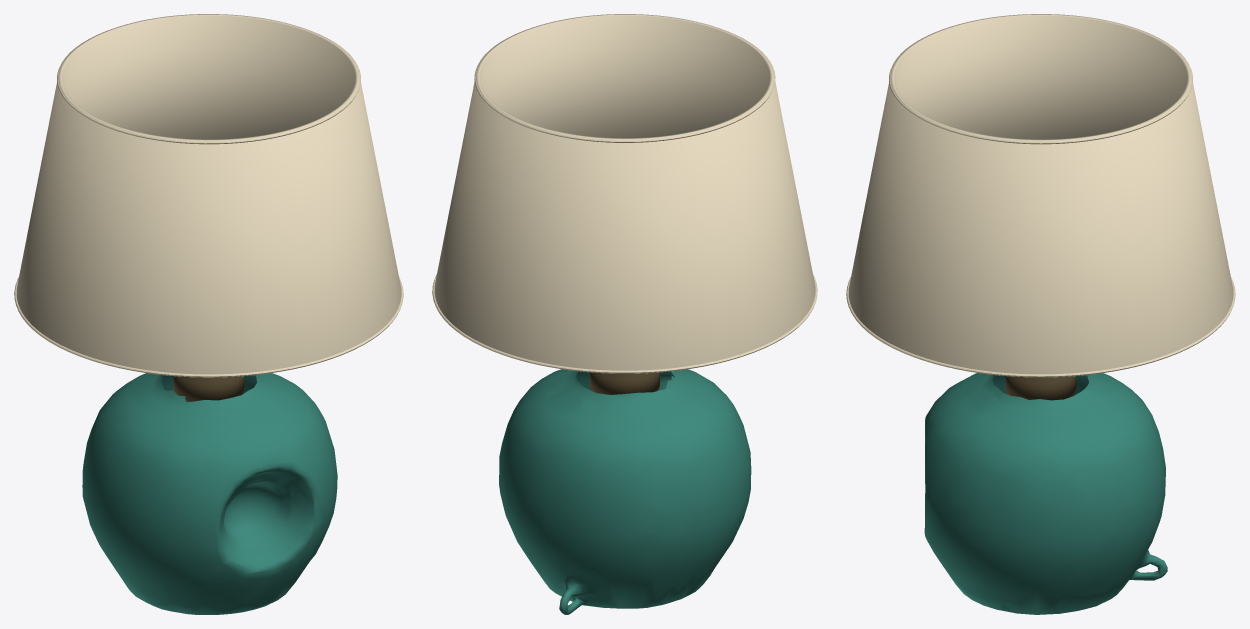
Rendered from rr_tide_lamp_v2.glb.
3 views of the same model, side by side, from view 1: azimuth 30°, elevation 25°; view 2: azimuth 150°, elevation 25°; view 3: azimuth 270°, elevation 25° (orthographic).
Parts seen in each view (by area): view 1: Tailored linen shade, Forge ceramic base with thumb hollow, Shade bound rim, Bronze neck, Shade bound rim.001; view 2: Tailored linen shade, Forge ceramic base with thumb hollow, Shade bound rim, Bronze neck, Shade bound rim.001; view 3: Tailored linen shade, Forge ceramic base with thumb hollow, Shade bound rim, Bronze neck, Shade bound rim.001.
Part boxes in pixels (<box>): Tailored linen shade: <box>16,14,401,377</box>; Forge ceramic base with thumb hollow: <box>82,373,337,614</box>; Shade bound rim: <box>14,277,403,377</box>; Bronze neck: <box>173,376,244,401</box>; Shade bound rim.001: <box>57,34,360,144</box>; Tailored linen shade: <box>434,14,815,373</box>; Forge ceramic base with thumb hollow: <box>499,369,751,614</box>; Shade bound rim: <box>432,274,817,373</box>; Bronze neck: <box>590,372,659,394</box>; Shade bound rim.001: <box>474,33,775,142</box>; Tailored linen shade: <box>848,14,1233,377</box>; Forge ceramic base with thumb hollow: <box>924,373,1167,614</box>; Shade bound rim: <box>846,277,1235,377</box>; Bronze neck: <box>1005,376,1076,400</box>; Shade bound rim.001: <box>889,35,1192,144</box>.
Size of the model in its own units: 2.2 by 3.14 by 2.2.
